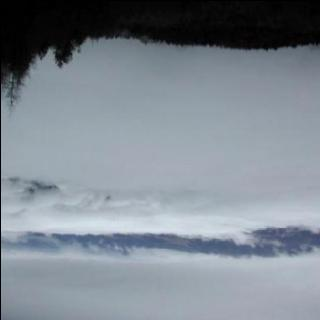Stratus: (0, 174, 320, 237)
